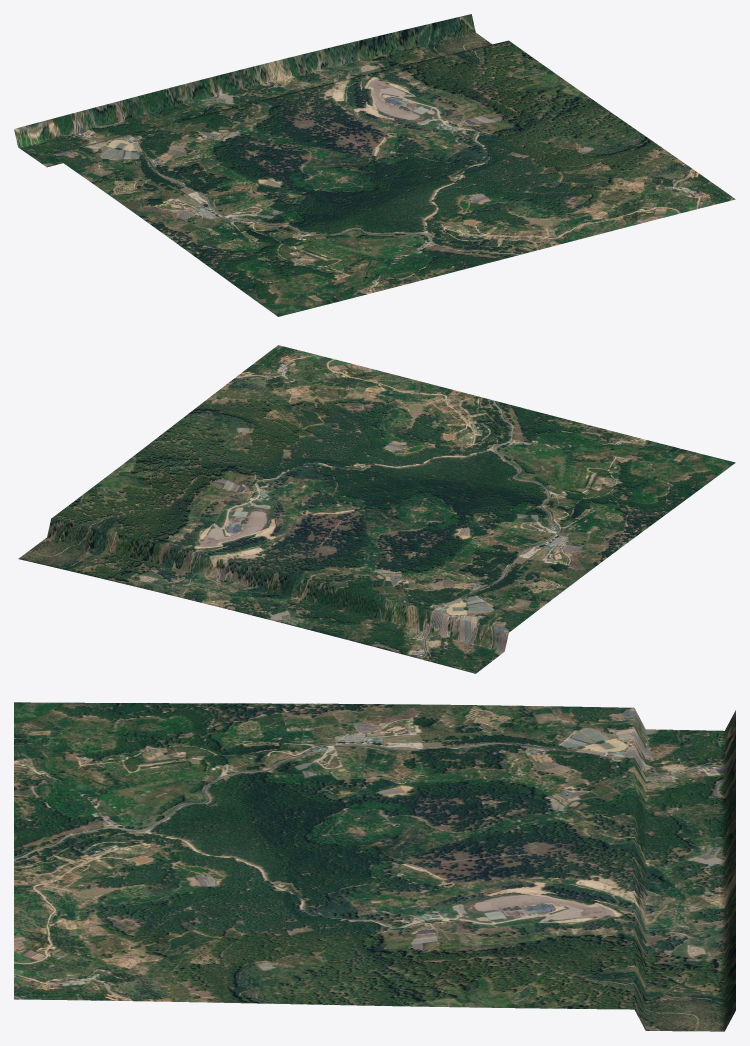
The model's file is terrain_real_T_E05_S02.glb.
3 renders of one model, top to bottom at view 1: azimuth 30°, elevation 25°; view 2: azimuth 150°, elevation 25°; view 3: azimuth 270°, elevation 25°, orthographic. The views are drawn at different scales.
Parts seen in each view (by area): view 1: Terrain_Real_DEM_T_E05_S02; view 2: Terrain_Real_DEM_T_E05_S02; view 3: Terrain_Real_DEM_T_E05_S02.
Boxes of the visible parts, <box> form: Terrain_Real_DEM_T_E05_S02: <box>14,14,735,316</box>; Terrain_Real_DEM_T_E05_S02: <box>18,345,735,673</box>; Terrain_Real_DEM_T_E05_S02: <box>14,702,735,1031</box>.
Size of the model in its own units: 2000 by 111 by 2000.
1 material, 1 textured.
